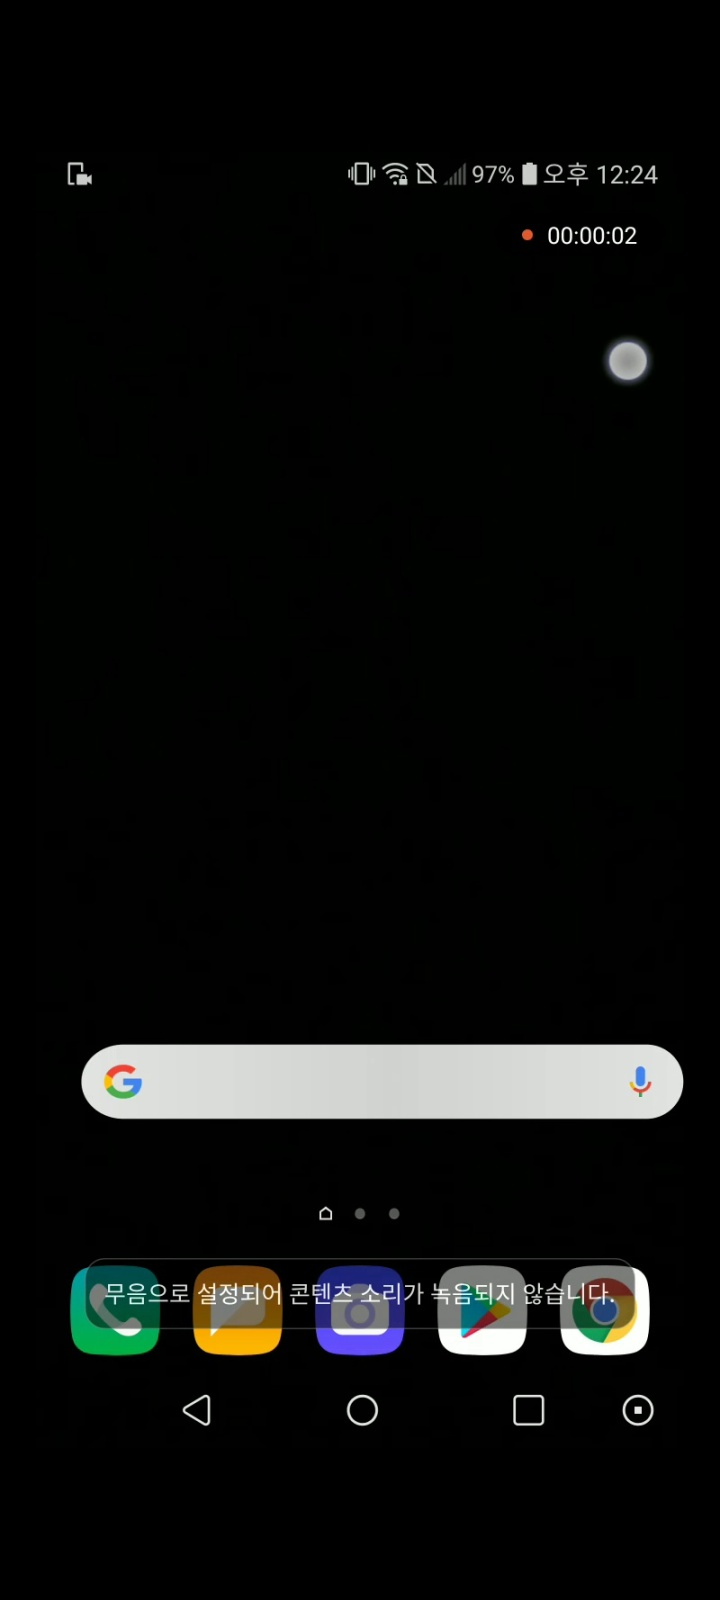Cursor: (606, 341, 651, 386)
